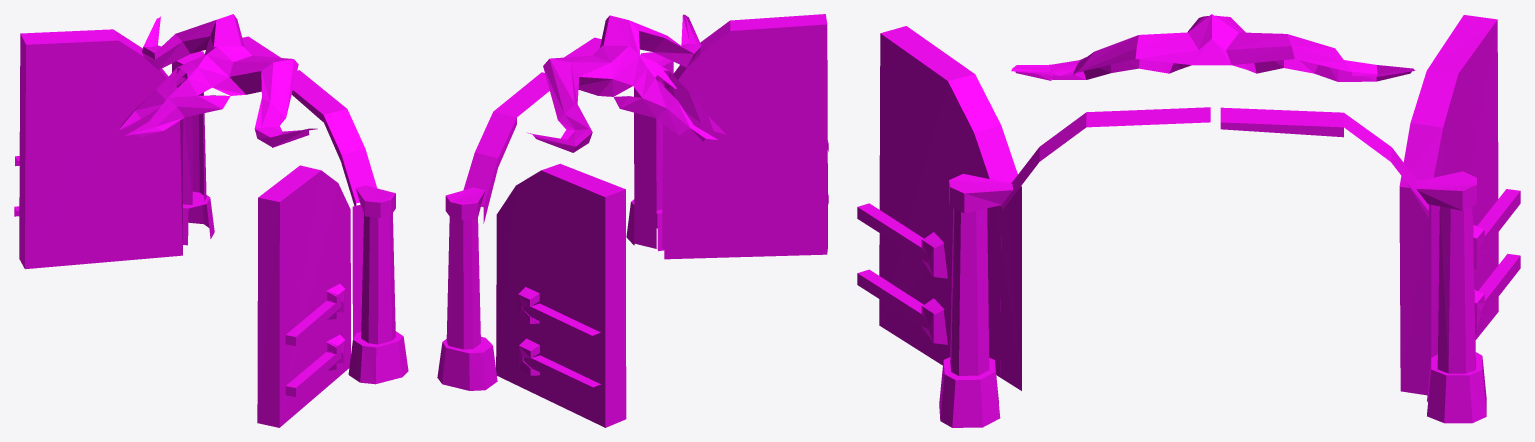
Rendered from rams skull dooropen.obj.
3 renders of one model, left to right at view 1: azimuth 30°, elevation 25°; view 2: azimuth 150°, elevation 25°; view 3: azimuth 270°, elevation 25°, orthographic. The views are drawn at different scales.
Visible parts, largest first — view 1: rams skull dooropen_back; view 2: rams skull dooropen_back; view 3: rams skull dooropen_back.
Boxes of the visible parts, x1,y1,x2,y2 form: rams skull dooropen_back: [14, 14, 408, 427]; rams skull dooropen_back: [437, 14, 828, 427]; rams skull dooropen_back: [857, 14, 1520, 427].
Size of the model in its own units: 2.56 by 3.6 by 6.08.
